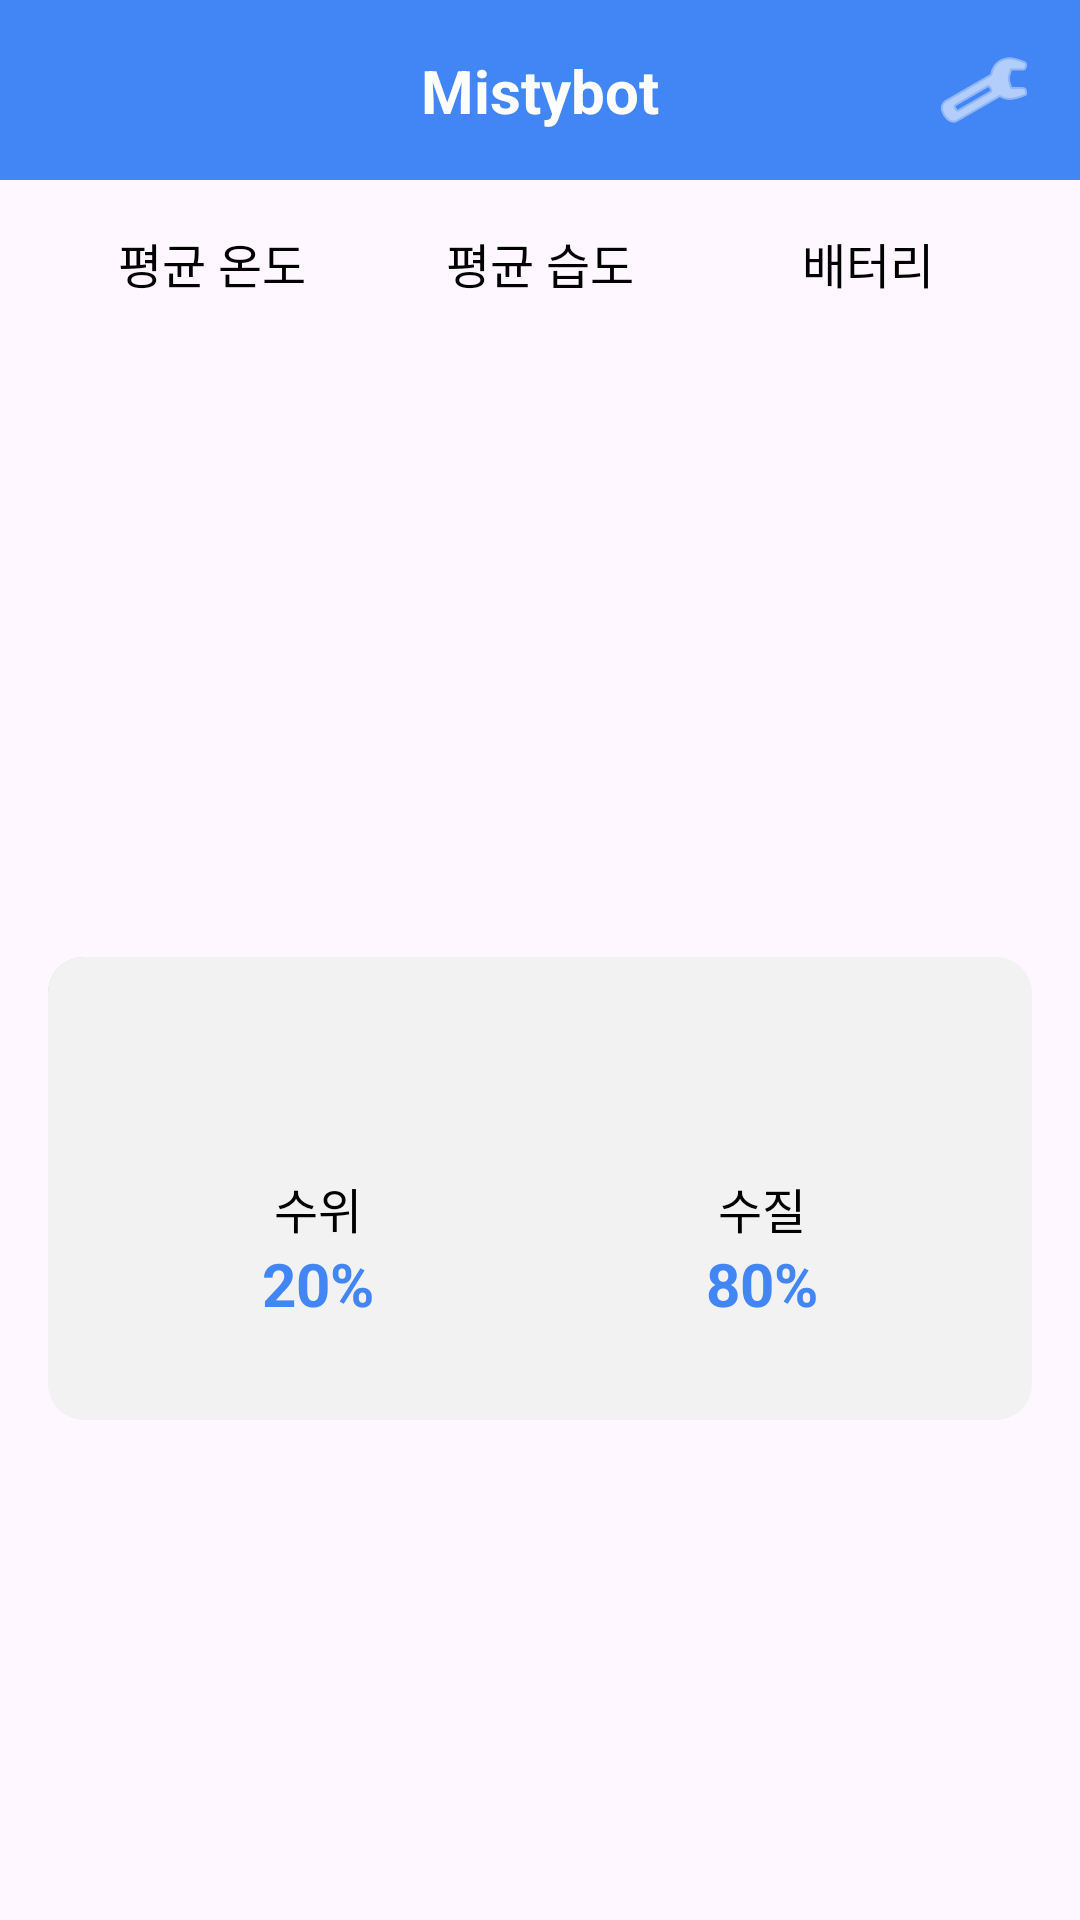

Icons on this 1080px x 1920px Android screen, each with the point to tap as [x,y]:
manage: [984,90]
